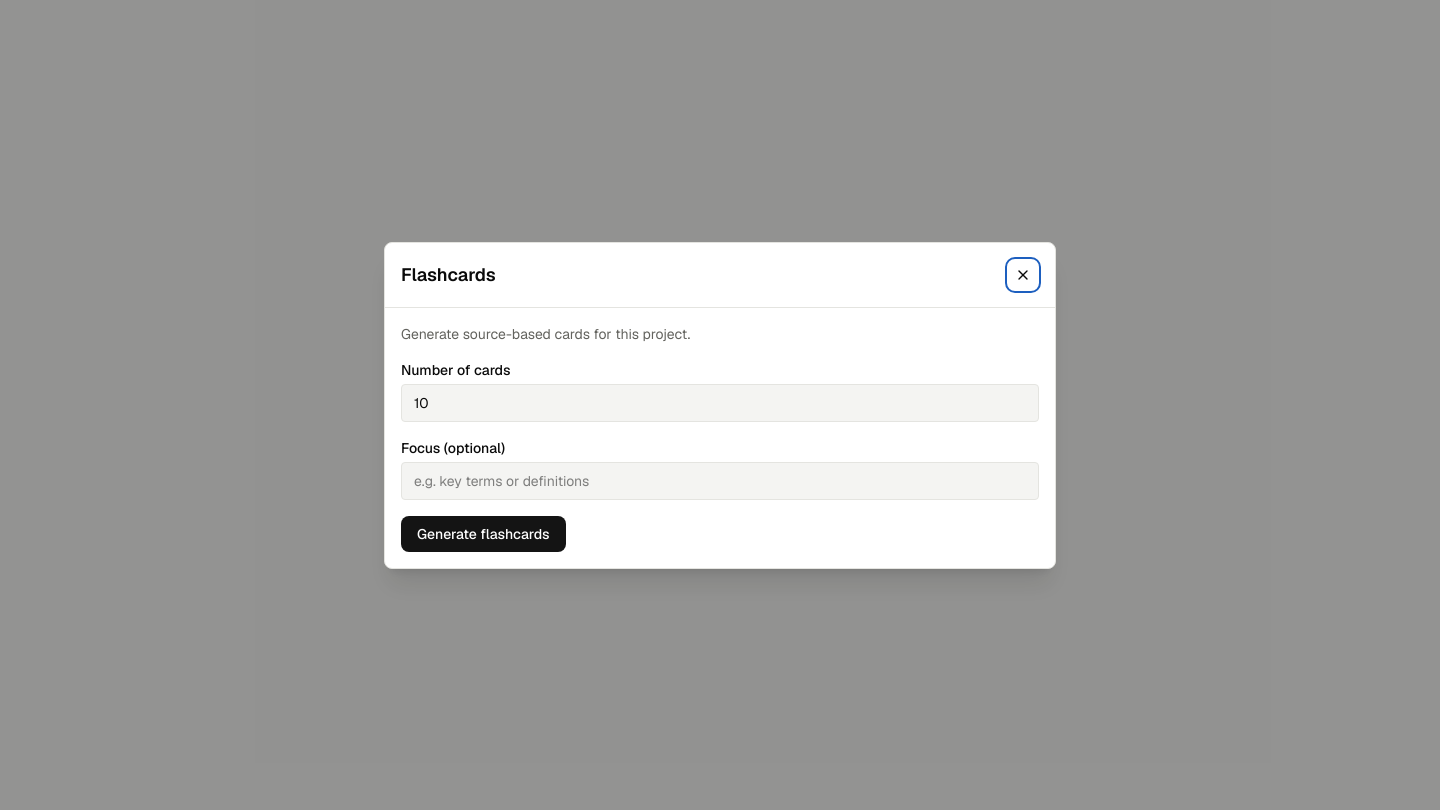
Test: StudyToolsDialog › closes the citation preview before the study dialog on Escape
The image size is (1440, 810).
Click the button "Generate flashcards" at [483, 534], box 401,516 -> 566,552
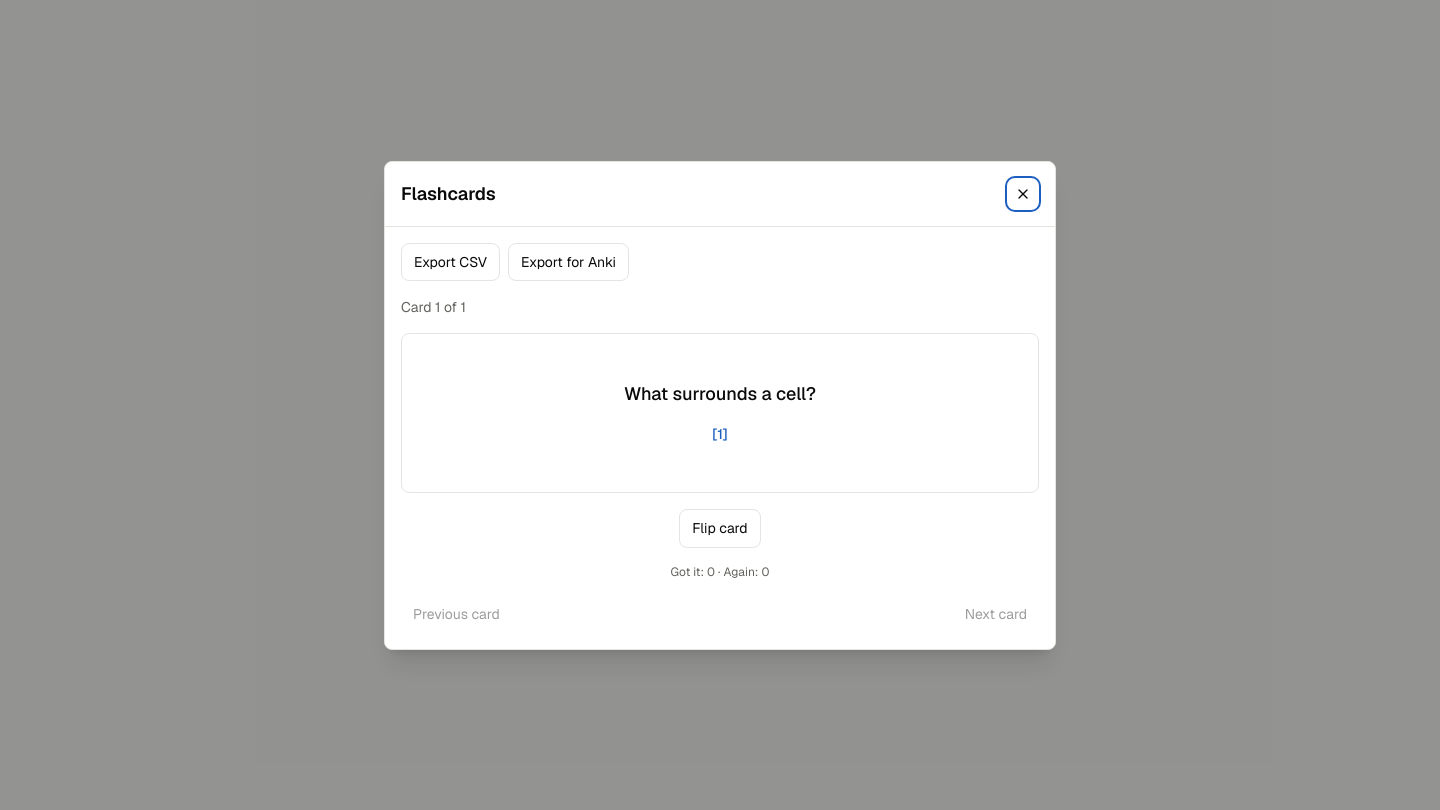
Result: the text "What surrounds a cell?" is shown at 624,382 -> 816,405
Click the button "Flip card" at [720, 528], box 679,508 -> 761,548
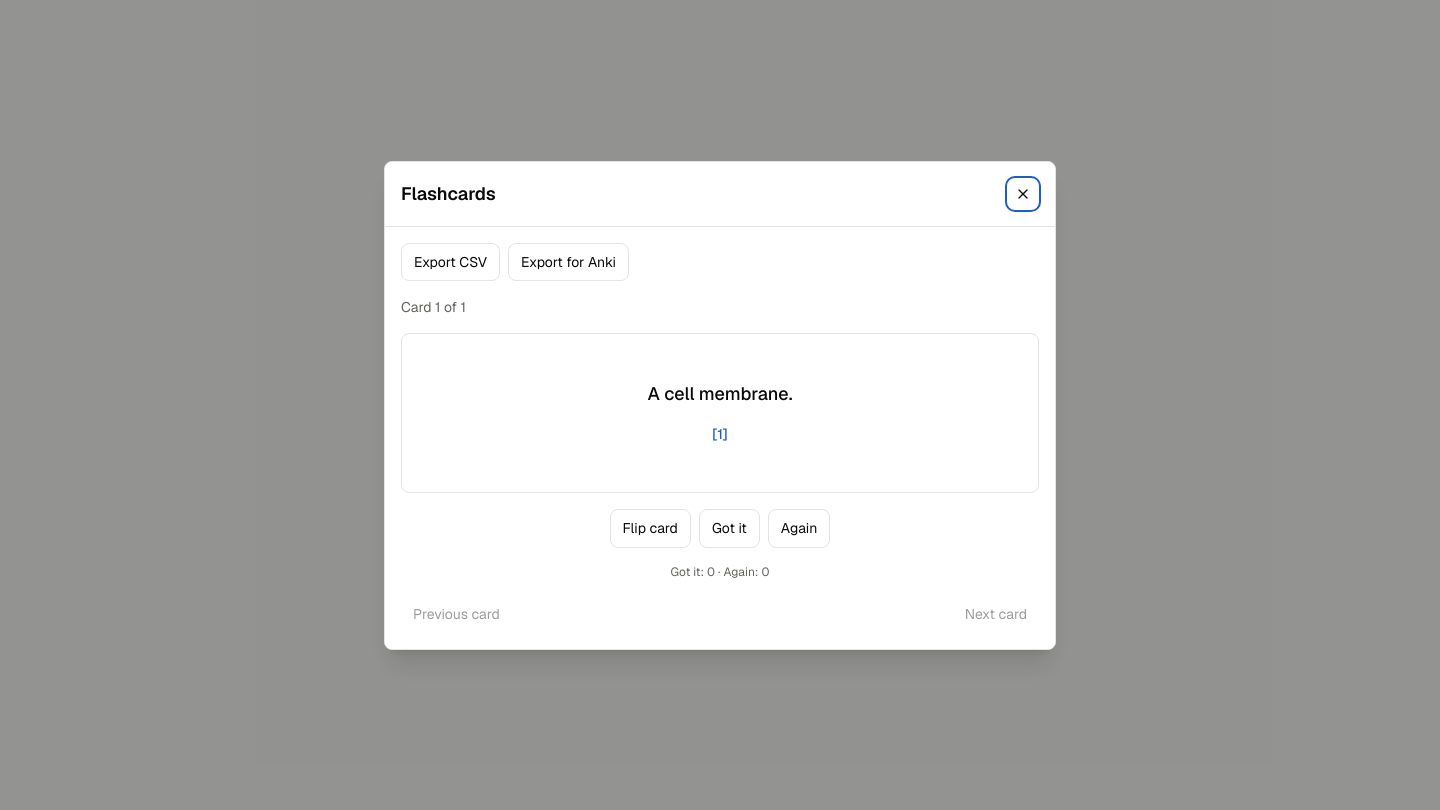
Click the button named "Preview source 1" at [720, 434], box 710,424 -> 730,445
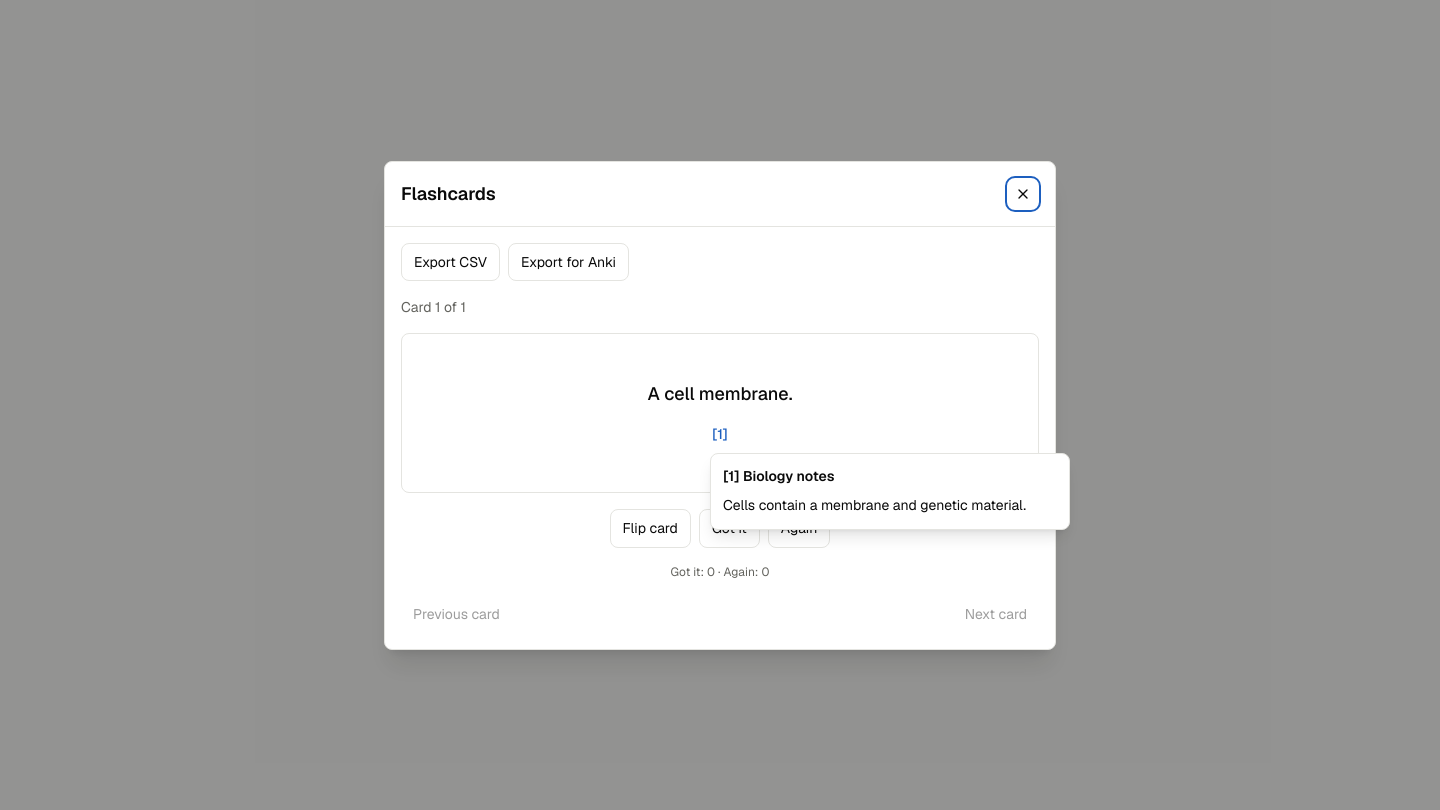
Result: the tooltip is shown at 710,453 -> 1070,530
Press Escape
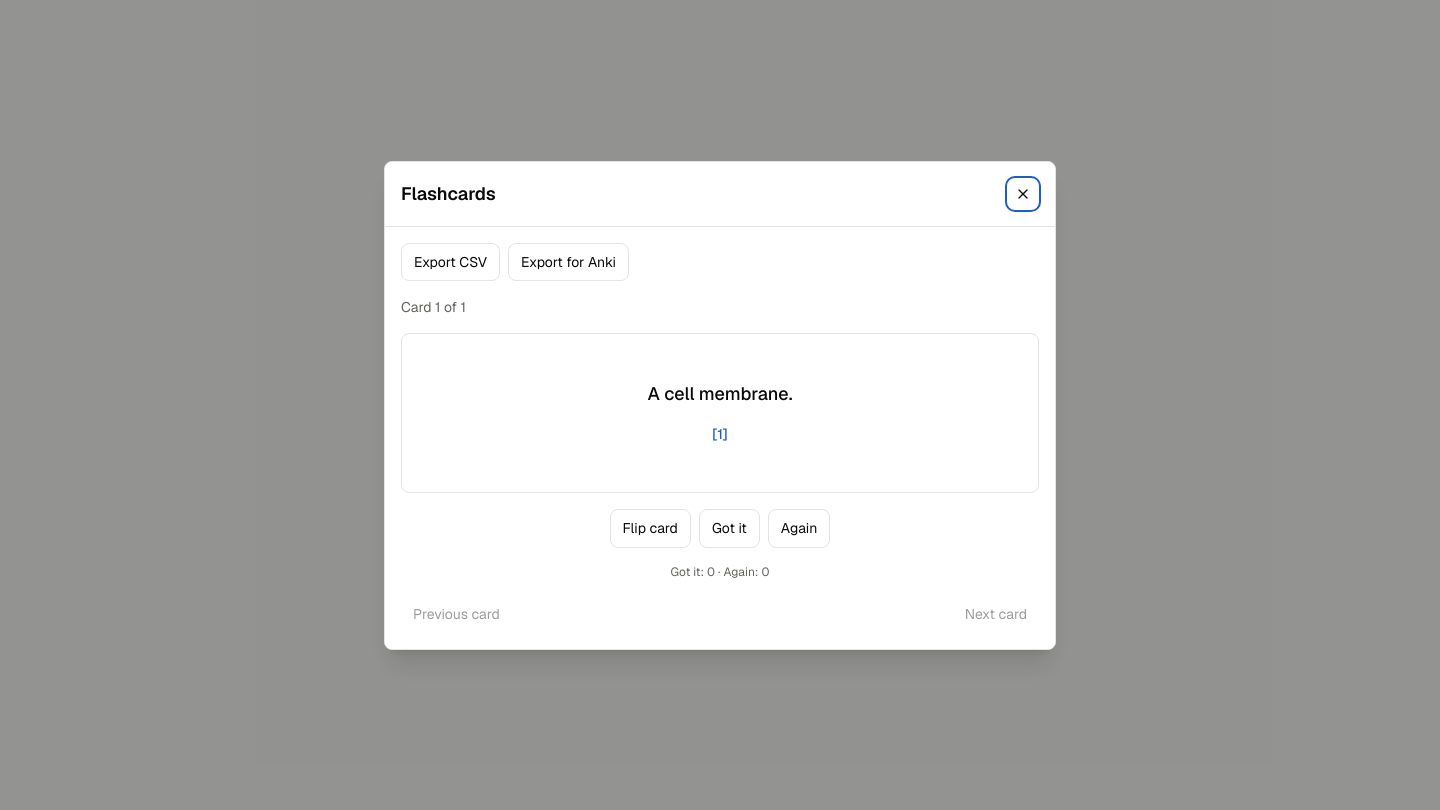
Expected: the dialog "Flashcards" is shown, 384,160 -> 1056,650
Result: the tooltip "[1] Biology notes Cells contain a membrane and genetic material." is gone
